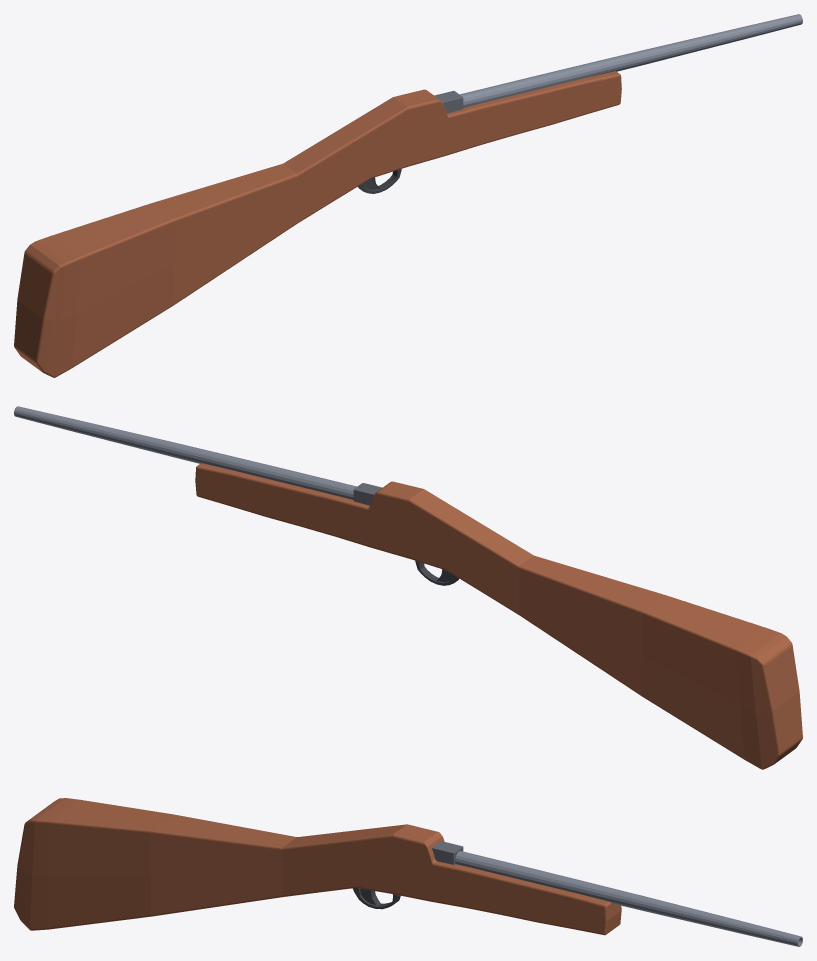
File: GunRevised.fbx
3 views of the same model, one above another, from view 1: azimuth 30°, elevation 25°; view 2: azimuth 150°, elevation 25°; view 3: azimuth 330°, elevation 25° (orthographic).
Visible parts, largest first — view 1: GunRevised; view 2: GunRevised; view 3: GunRevised.
Boxes of the visible parts, <box> form: GunRevised: <box>14,14,802,377</box>; GunRevised: <box>14,406,802,769</box>; GunRevised: <box>14,798,802,946</box>.
Size of the model in its own units: 485 by 108 by 34.
